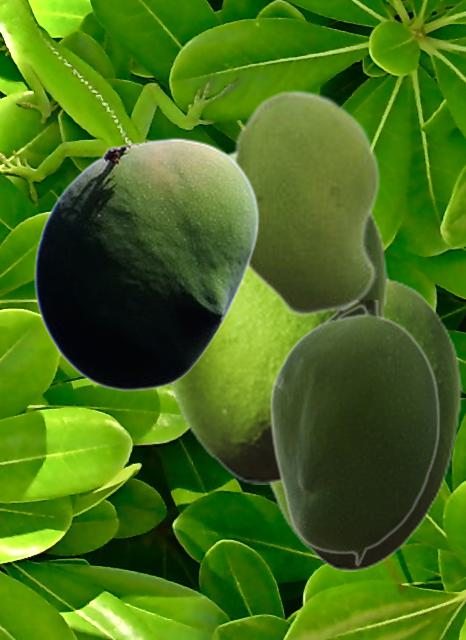green_mango: (165, 146, 387, 483), (265, 273, 461, 570), (33, 137, 259, 390), (268, 300, 439, 566), (230, 89, 380, 317)
